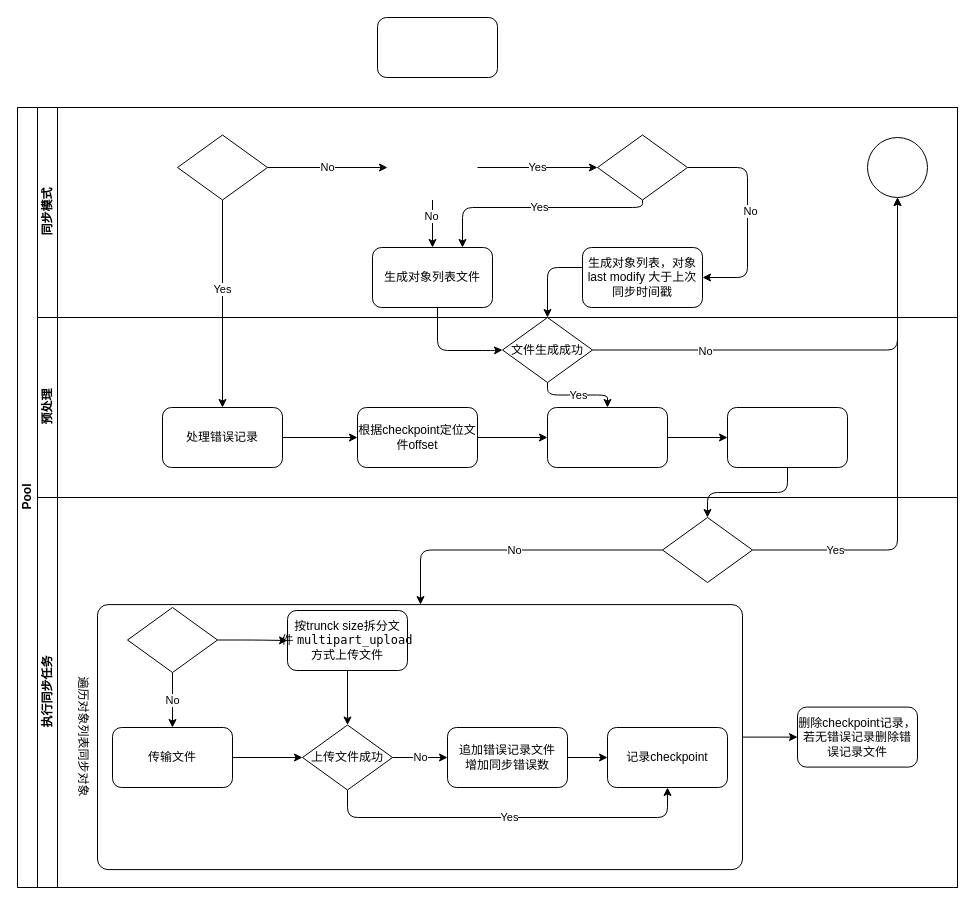
Image size: 975x905. Some labels were removed from this diagram. Each missing label, with the centre of its shape:
从checkpoint开始执行: [222,167]
同步结束: [897,167]
启动checkpoint线程: [607,437]
检查同步错误数量是否到达上限: [707,549]
检查文件大小是否超过tunck size阀值: [172,639]
遍历对象列表按批次生成多线程同步任务: [787,437]
首次同步: [642,167]
